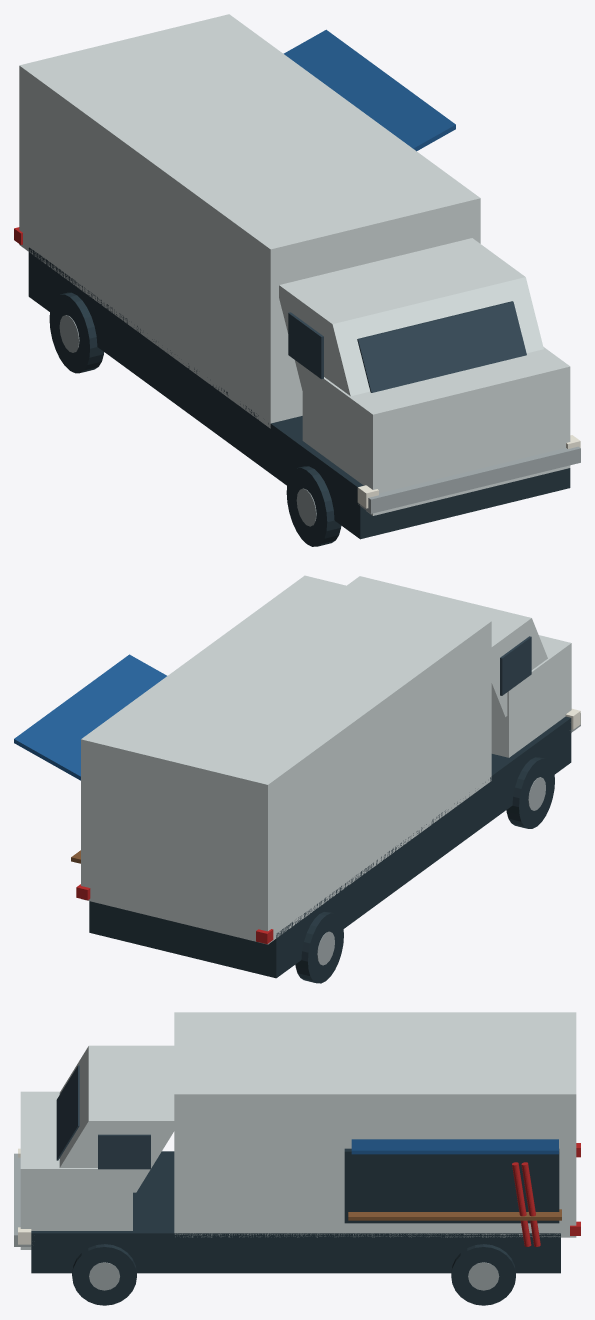
The model's file is scendance-plan-team-wax-truck.glb.
3 views of the same model, one above another, from view 1: azimuth 30°, elevation 25°; view 2: azimuth 150°, elevation 25°; view 3: azimuth 270°, elevation 25° (orthographic). The views are drawn at different scales.
Size of the model in its own units: 3.55 by 2.91 by 7.16.
